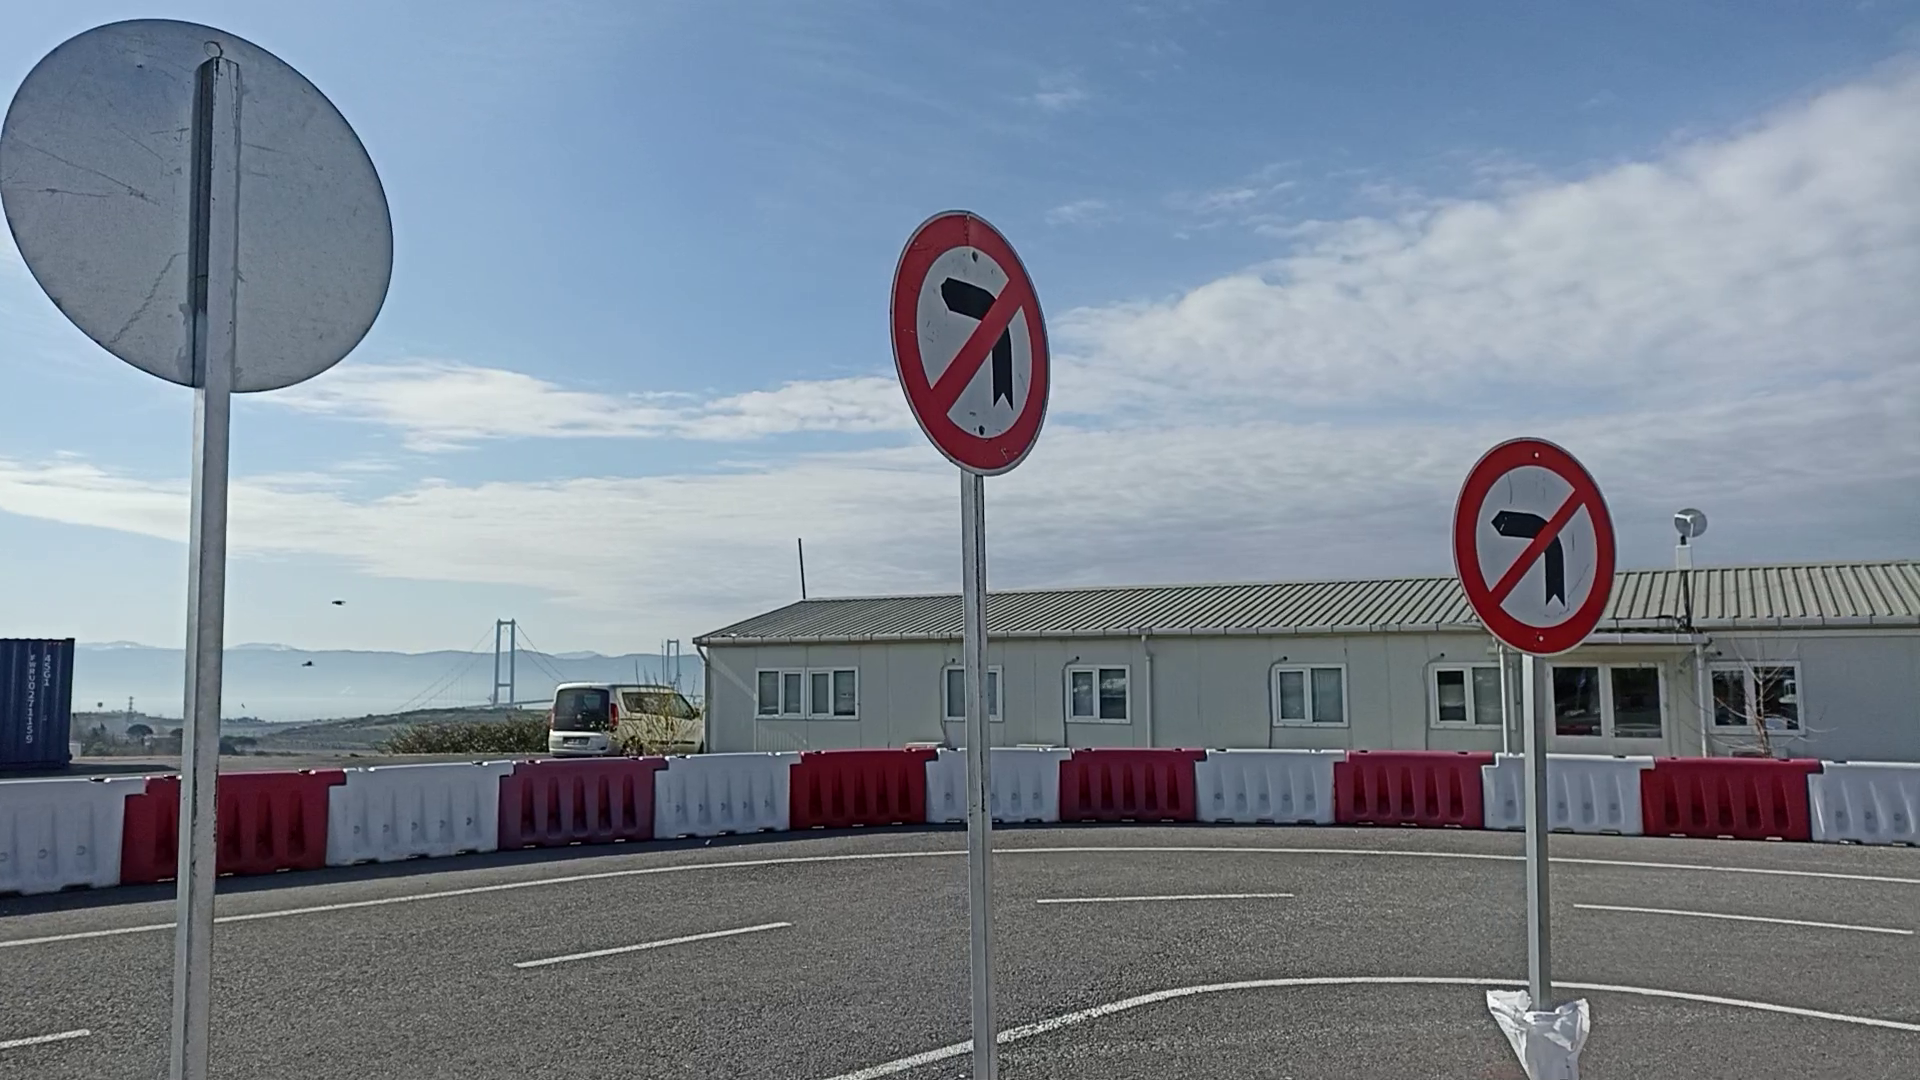noleft: (887, 207, 1055, 477), (1451, 429, 1623, 661)
